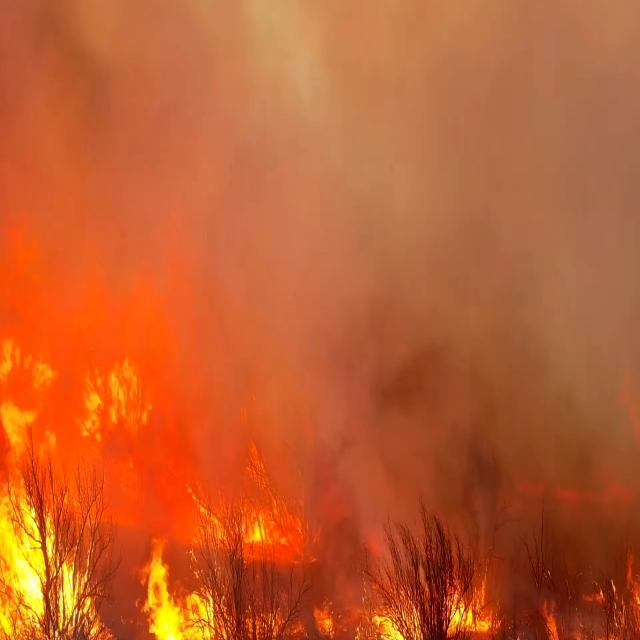fire: (110, 524, 265, 640), (0, 460, 87, 640)
